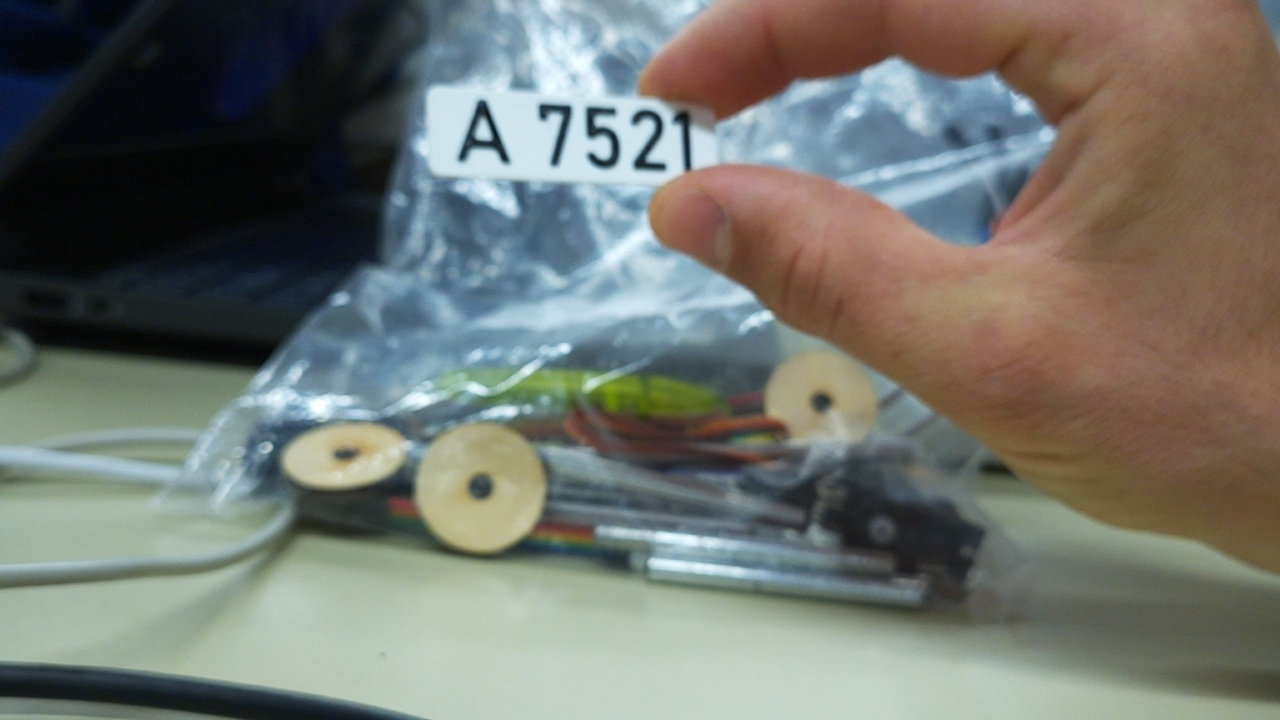license_plate: (422, 84, 723, 184)
